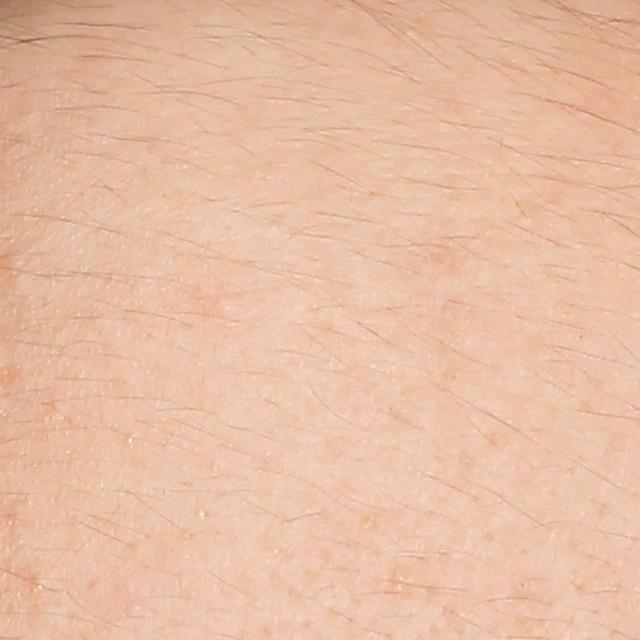comedo: (517, 579, 530, 593)
